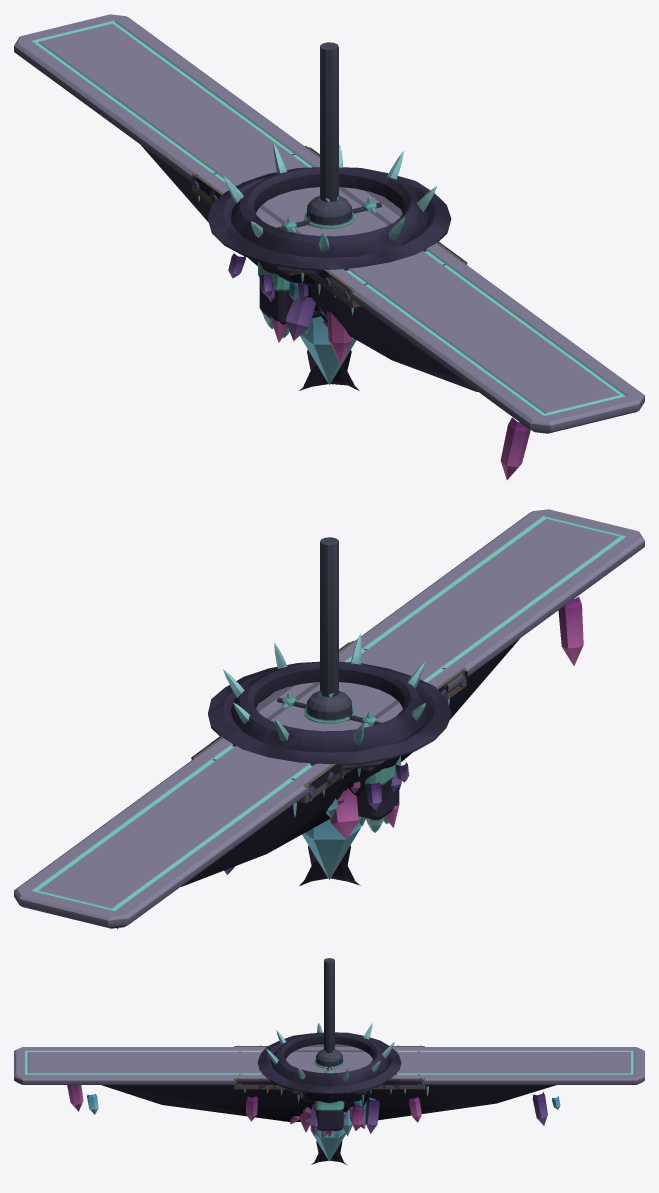
The model's file is caverns-2-BygBiLcC.glb.
The picture shows the model from 3 angles, top to bottom: view 1: azimuth 30°, elevation 25°; view 2: azimuth 150°, elevation 25°; view 3: azimuth 270°, elevation 25°; orthographic projection. The views are drawn at different scales.
Visible parts, largest first — view 1: block_7x2x56#0, geyserVent_8#0, press_7.5x6x2.5#0, disc_10x1.5#0, barHub_7.2x1.2#0, belt_7x1.5x17x0#0, block_8x2x10#0, support_0_round#0, block_10x2x8#0; view 2: block_7x2x56#0, geyserVent_8#0, press_7.5x6x2.5#0, disc_10x1.5#0, barHub_7.2x1.2#0, belt_7x1.5x17x0#0, block_10x2x8#0, support_0_round#0; view 3: block_7x2x56#0, geyserVent_8#0, press_7.5x6x2.5#0, disc_10x1.5#0, belt_7x1.5x17x0#0, block_8x2x10#0, block_10x2x8#0, barHub_7.2x1.2#0, block_7x2x8#0.
Part boxes in pixels (<box>): block_7x2x56#0: <box>14,14,644,479</box>; geyserVent_8#0: <box>208,143,451,271</box>; press_7.5x6x2.5#0: <box>258,42,338,337</box>; disc_10x1.5#0: <box>259,189,400,384</box>; barHub_7.2x1.2#0: <box>277,194,381,230</box>; belt_7x1.5x17x0#0: <box>191,146,467,315</box>; block_8x2x10#0: <box>298,201,397,365</box>; support_0_round#0: <box>299,349,359,390</box>; block_10x2x8#0: <box>228,253,318,310</box>; block_7x2x56#0: <box>14,509,644,929</box>; geyserVent_8#0: <box>208,633,451,765</box>; press_7.5x6x2.5#0: <box>320,537,400,832</box>; disc_10x1.5#0: <box>258,684,399,879</box>; barHub_7.2x1.2#0: <box>277,689,381,725</box>; belt_7x1.5x17x0#0: <box>191,641,467,817</box>; block_10x2x8#0: <box>347,760,409,809</box>; support_0_round#0: <box>299,845,360,885</box>; block_7x2x56#0: <box>14,1047,644,1125</box>; geyserVent_8#0: <box>257,1022,401,1093</box>; press_7.5x6x2.5#0: <box>315,958,344,1138</box>; disc_10x1.5#0: <box>290,1045,365,1161</box>; belt_7x1.5x17x0#0: <box>233,1045,428,1096</box>; block_8x2x10#0: <box>278,1085,380,1133</box>; block_10x2x8#0: <box>284,1087,374,1136</box>; barHub_7.2x1.2#0: <box>314,1049,344,1069</box>; block_7x2x8#0: <box>310,1104,352,1136</box>.
Size of the model in its own units: 12.78 by 20.55 by 56.
